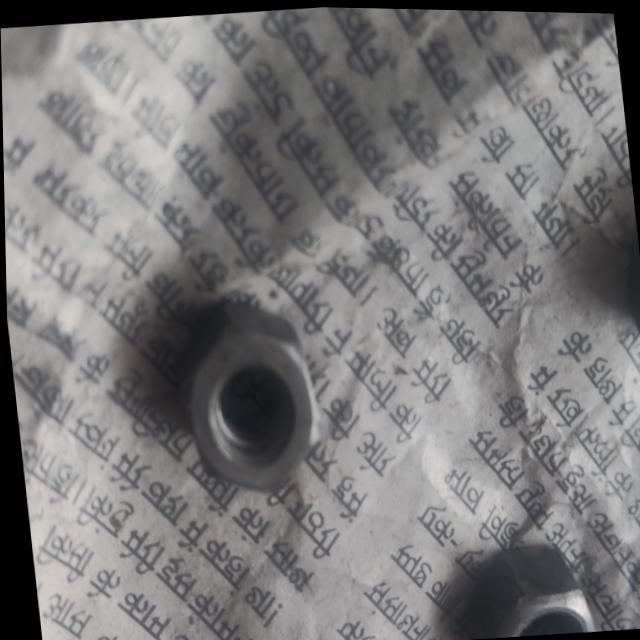disinfected nut: (177, 299, 313, 488), (465, 542, 590, 636)
